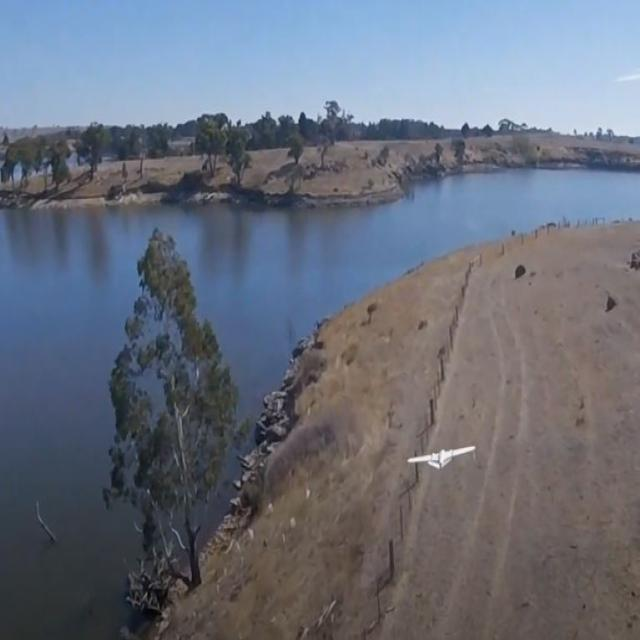iha: (440, 438, 444, 466)
